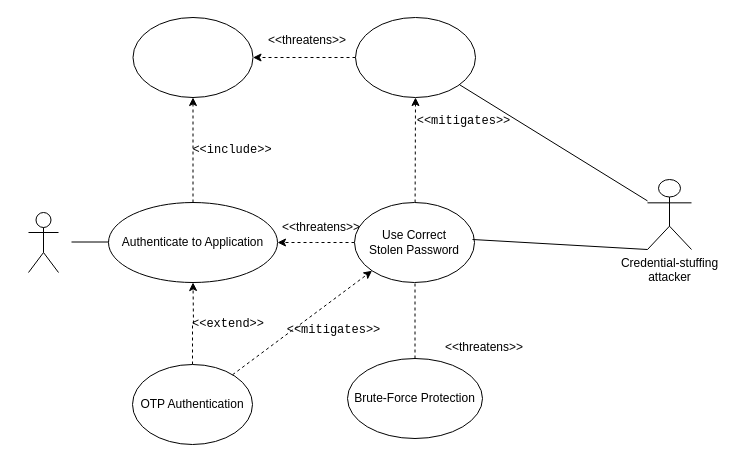
Some shapes in this 735 by 462 pixel diagram are drawn without their labels. Here are the shapes that lost their labels. From the top down, the centre of each, then its label:
At [192,57]: "Password Authentication".
At [415,57]: "Submit Reused or Stolen Credentials".
At [43,242]: "Employee".
